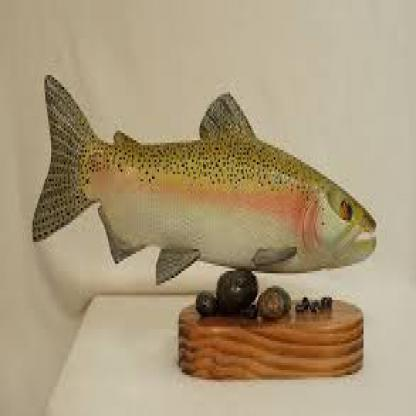fish: (30, 74, 377, 284)
